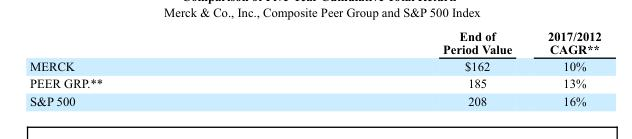table: (29, 29, 600, 107)
table column: (272, 29, 529, 107), (29, 29, 272, 107), (529, 29, 600, 107)
table column header: (29, 29, 600, 57)
table row: (29, 29, 600, 57), (29, 57, 600, 74), (29, 74, 600, 91), (29, 91, 600, 107)
